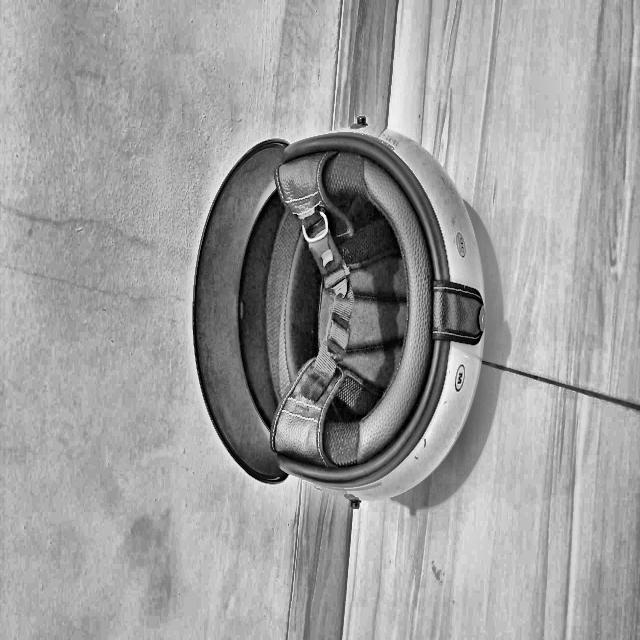Helmet: (75, 304, 290, 640)
